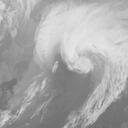cyclone: (33, 14, 115, 84)
